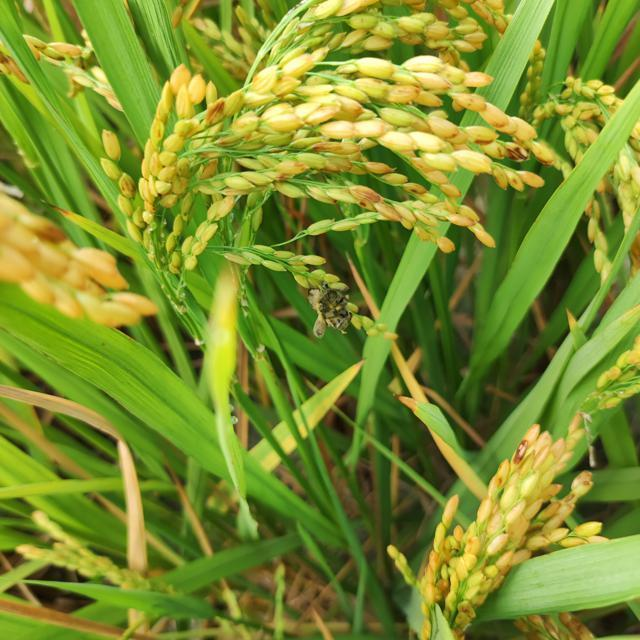Leaf_Scald: (308, 282, 354, 340)
